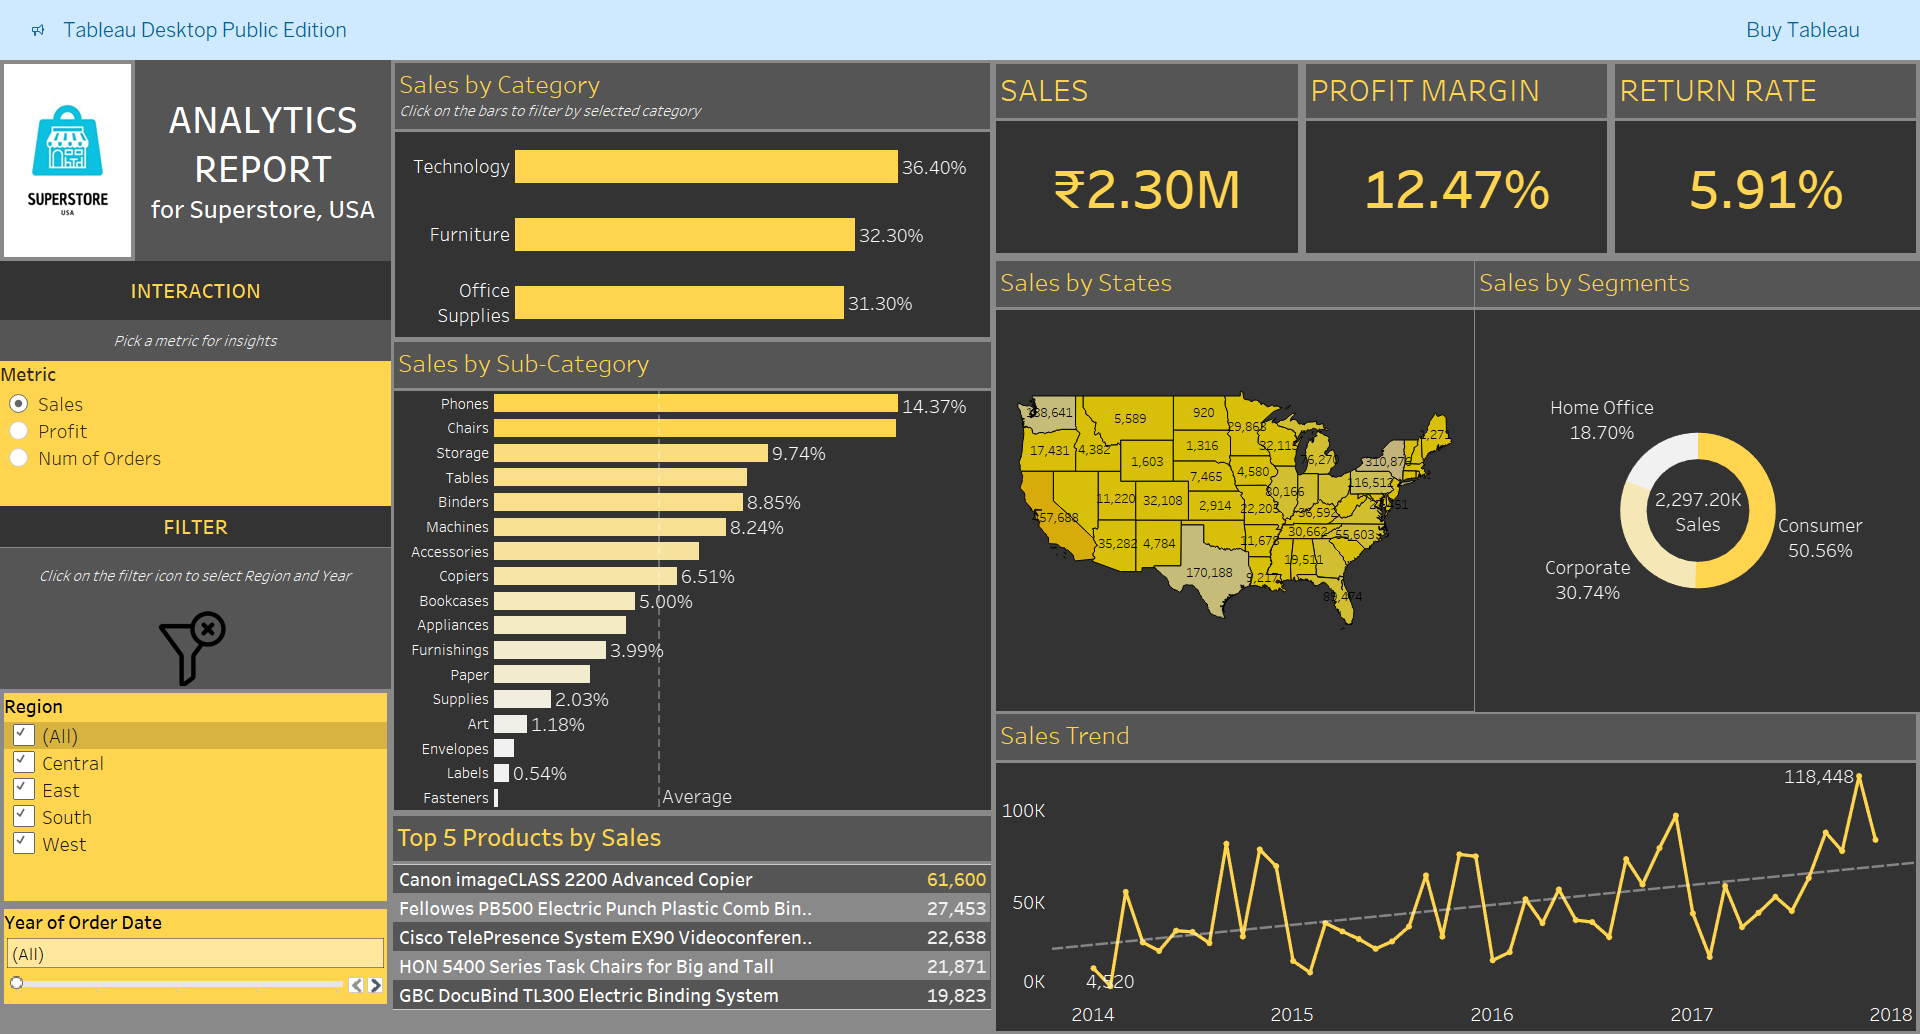

Layout of this report page (visuals, bound fields, positions):
{"tool":"tableau","page":{"name":"Dashboard","canvas":[1000,1000],"units":"permille","ordinal":0},"visuals":[{"type":"image","param":"Image/Superstore.jpg","box":[0,0,70.5,205.8]},{"type":"text","box":[70.5,0,133.4,205.8]},{"type":"worksheet","title":"Sales","mark":"Automatic","box":[516.8,0,161.5,201.8]},{"type":"worksheet","title":"Profit margin","mark":"Automatic","box":[678.3,0,160.8,201.8]},{"type":"worksheet","title":"Return rate","mark":"Automatic","box":[839.1,0,160.8,201.8]},{"type":"worksheet","title":"Category","mark":"Automatic","rows":["Category"],"cols":["Calculation_487796158567698432"],"box":[205.7,2.6,309.9,343]},{"type":"text","box":[0,205.8,203.9,60.7]},{"type":"worksheet","title":"Map","mark":"Multipolygon","box":[518.7,205.8,248.8,461.7]},{"type":"worksheet","title":"Segment","mark":"Pie","rows":["Calculation_487796158591057924","Calculation_487796158591057924"],"box":[768.1,205.8,232.5,461.7]},{"type":"text","box":[0,266.5,203.9,42.2]},{"type":"worksheet","title":"Sub-Cat","mark":"Automatic","rows":["Sub-Category"],"cols":["Calculation_487796158567698432"],"box":[205.1,288.9,311.1,480.2]},{"type":"parameter","param":"[Parameters].[Parameter 2]","box":[0,308.7,203.9,149.1]},{"type":"text","box":[0,457.8,203.9,42.2]},{"type":"text","box":[0,500,203.9,56.7]},{"type":"dashboard-object","box":[79.8,564.6,41.1,77.8]},{"type":"filter","title":"Category","param":"[federated.0g2iai41w3f6nd17jtxeg0jlbr61].[none:Region:nk]","box":[0,645.1,203.9,285]},{"type":"worksheet","title":"Trend","mark":"Line","rows":["Calculation_487796158567698432"],"cols":["Order Date"],"box":[516.8,666.2,483.2,333.8]},{"type":"worksheet","title":"Products","mark":"Text","rows":["Product Name"],"box":[204.5,775.7,330.4,203.2]},{"type":"filter","title":"Category","param":"[federated.0g2iai41w3f6nd17jtxeg0jlbr61].[yr:Order Date:ok]","box":[0,930.1,203.9,69.9]}]}

Visuals, with their boxes on the dashboard's canvas, which has no fixed pixel size, in thousandths of its width and height (x1, y1, x2, y2). These are canvas units, not pixel positions in the 1920x1034 screenshot, which may show the page scaled, cropped or inside an application window:
image: 0,0,70,206
text: 70,0,204,206
"Sales" worksheet: 517,0,678,202
"Profit margin" worksheet: 678,0,839,202
"Return rate" worksheet: 839,0,1000,202
"Category" worksheet: 206,3,516,346
text: 0,206,204,266
"Map" worksheet (Multipolygon marks): 519,206,768,668
"Segment" worksheet (Pie marks): 768,206,1001,668
text: 0,266,204,309
"Sub-Cat" worksheet: 205,289,516,769
parameter: 0,309,204,458
text: 0,458,204,500
text: 0,500,204,557
dashboard-object: 80,565,121,642
"Category" filter: 0,645,204,930
"Trend" worksheet (Line marks): 517,666,1000,1000
"Products" worksheet (Text marks): 204,776,535,979
"Category" filter: 0,930,204,1000
